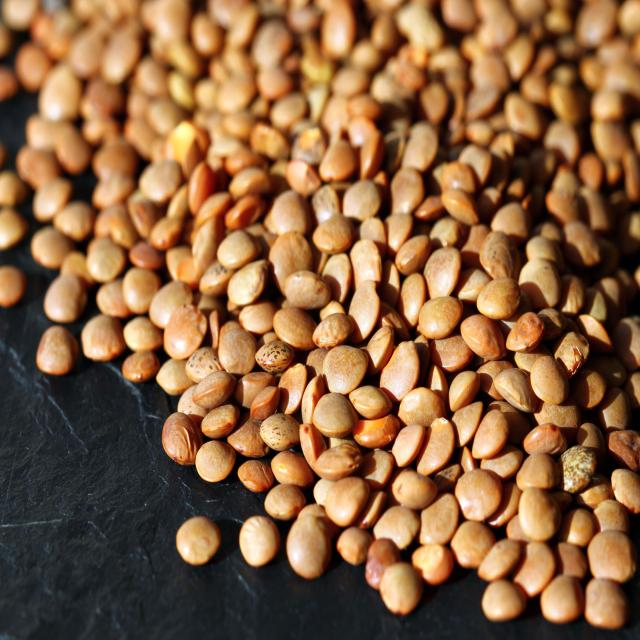lentejas: (8, 8, 634, 606)
